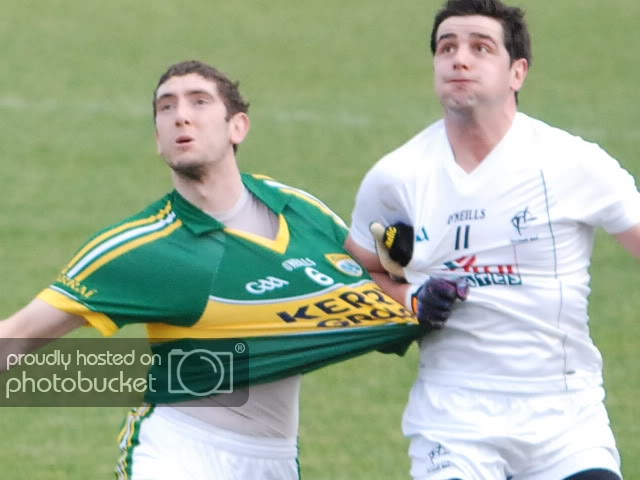player: (378, 6, 619, 444), (85, 69, 343, 460)
